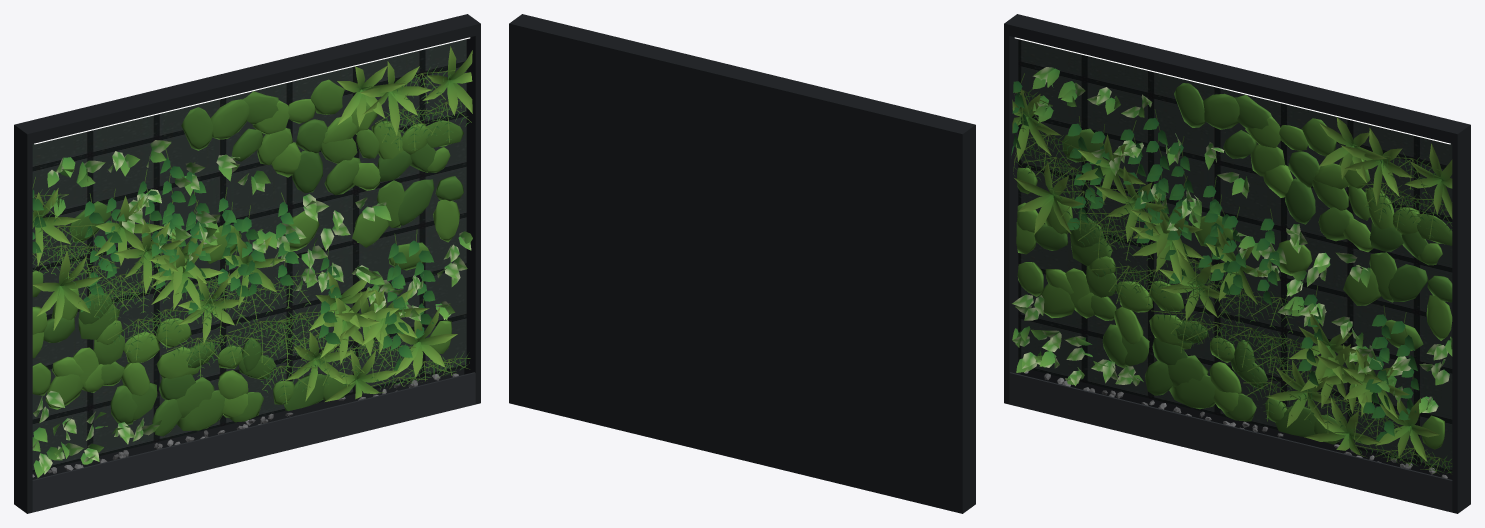
Rendered from Office_Garden_Living_Wall.glb.
3 renders of one model, left to right at view 1: azimuth 30°, elevation 25°; view 2: azimuth 150°, elevation 25°; view 3: azimuth 330°, elevation 25°, orthographic.
Parts seen in each view (by area): view 1: Hydroponic_Felt_Grid, Foliage_Moss_Cushions, Foliage_Ferns_Matte, Frame_Aluminium, Foliage_Philodendron_Pothos, Irrigation_Trough, Trough_River_Pebbles, Grow_Light_Diffuser; view 2: Frame_Aluminium; view 3: Hydroponic_Felt_Grid, Foliage_Moss_Cushions, Foliage_Ferns_Matte, Frame_Aluminium, Foliage_Philodendron_Pothos, Irrigation_Trough, Trough_River_Pebbles, Grow_Light_Diffuser.
Part boxes in pixels (x1,y1,x2,y2): Hydroponic_Felt_Grid: [32, 39, 466, 472]; Foliage_Moss_Cushions: [32, 79, 463, 436]; Foliage_Ferns_Matte: [32, 46, 472, 404]; Frame_Aluminium: [14, 14, 480, 513]; Foliage_Philodendron_Pothos: [32, 140, 472, 477]; Irrigation_Trough: [32, 372, 475, 512]; Trough_River_Pebbles: [32, 373, 458, 477]; Grow_Light_Diffuser: [34, 37, 470, 144]; Frame_Aluminium: [509, 14, 975, 513]; Hydroponic_Felt_Grid: [1018, 39, 1452, 471]; Foliage_Moss_Cushions: [1016, 83, 1452, 449]; Foliage_Ferns_Matte: [1012, 88, 1452, 474]; Frame_Aluminium: [1004, 14, 1470, 513]; Foliage_Philodendron_Pothos: [1011, 67, 1452, 441]; Irrigation_Trough: [1009, 372, 1452, 512]; Trough_River_Pebbles: [1024, 371, 1447, 478]; Grow_Light_Diffuser: [1014, 37, 1450, 144].
Size of the model in its own units: 3 by 2.4 by 0.178.
Materials: 8 (1 with a texture image).
